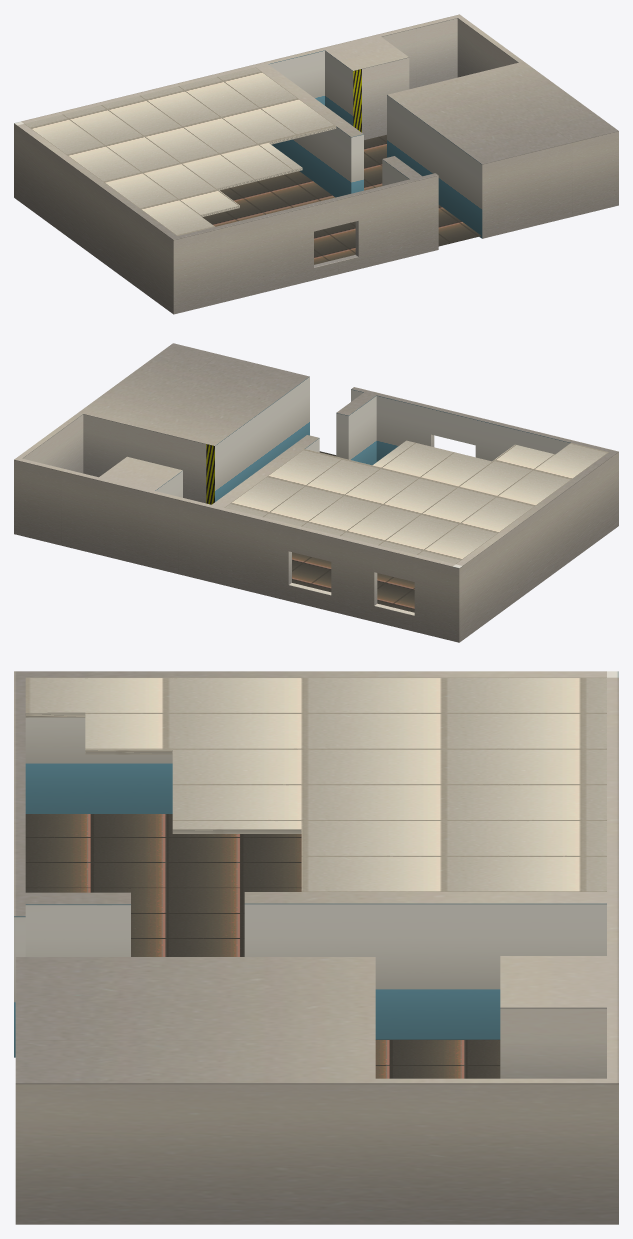
File: Laboratory.FBX
3 renders of one model, top to bottom at view 1: azimuth 30°, elevation 25°; view 2: azimuth 150°, elevation 25°; view 3: azimuth 270°, elevation 25°, orthographic. The views are drawn at different scales.
Visible parts, largest first — view 1: LabWalls, LabCeiling, Plane001; view 2: LabWalls, LabCeiling, Plane001; view 3: LabWalls, LabCeiling, Plane001.
Part boxes in pixels (bbox=[...]): LabWalls: bbox=[14, 14, 618, 314]; LabCeiling: bbox=[24, 67, 336, 235]; Plane001: bbox=[202, 134, 481, 264]; LabWalls: bbox=[14, 343, 618, 642]; LabCeiling: bbox=[224, 440, 608, 564]; Plane001: bbox=[292, 451, 414, 612]; LabWalls: bbox=[14, 671, 618, 1224]; LabCeiling: bbox=[25, 677, 606, 891]; Plane001: bbox=[25, 814, 500, 1078].
Bounding box in the file's own units: 866 × 138 × 537.
Materials: 7 (6 with a texture image).
